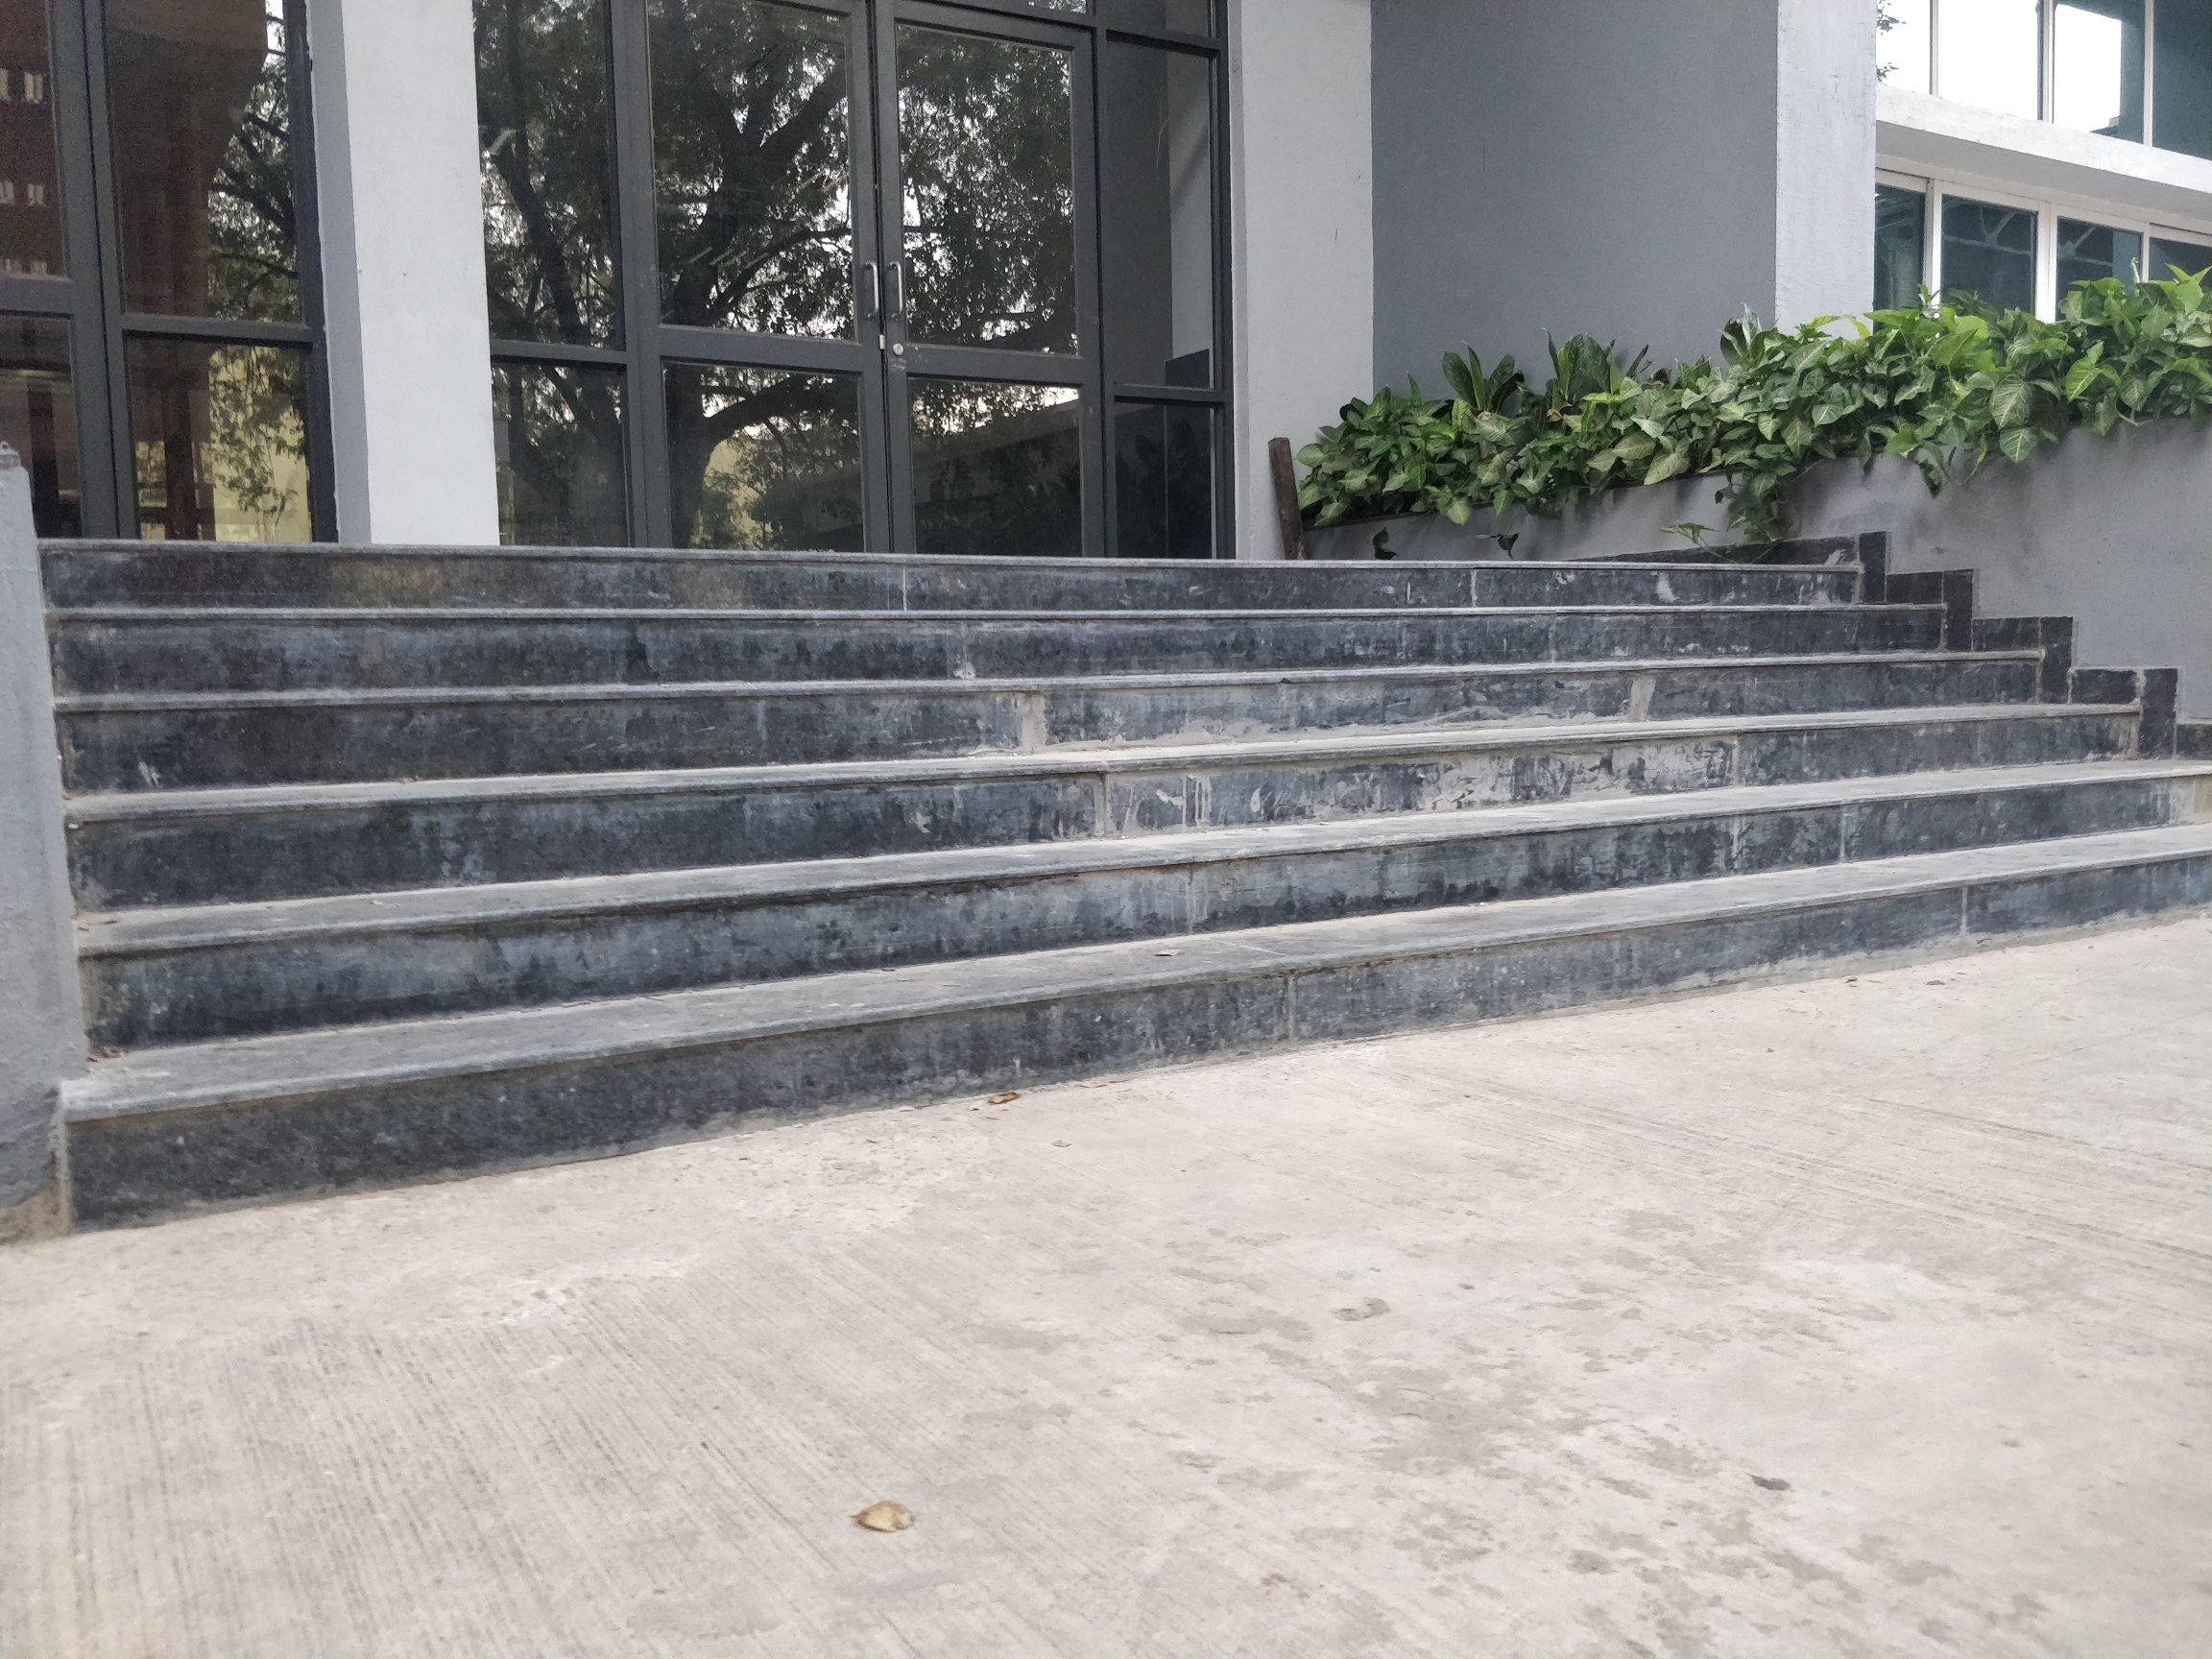stairs_up: (47, 537, 2167, 1000)
